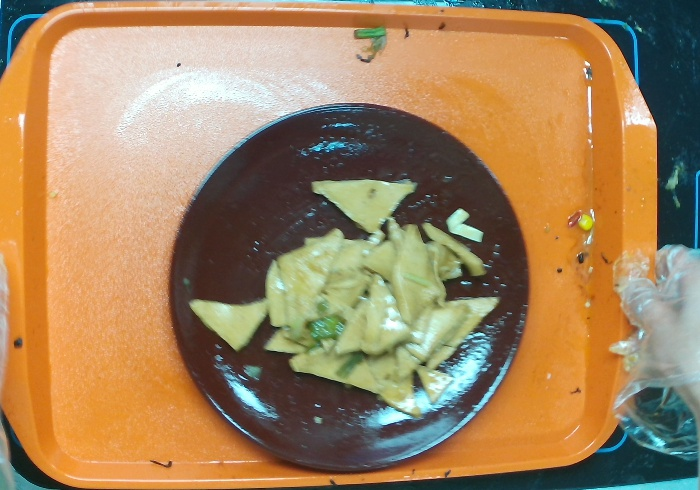HZYJPL-Ka_Fei_Yuan_Pan: (161, 99, 535, 478)
